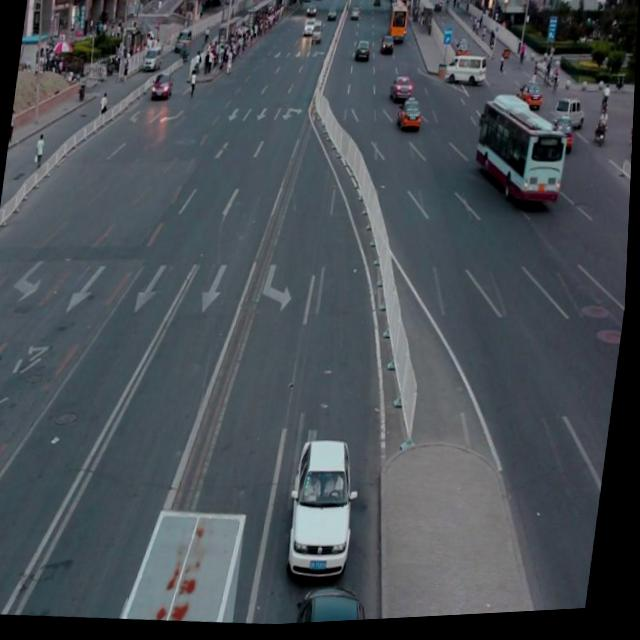bus: (120, 501, 252, 630)
car: (287, 435, 368, 582), (299, 581, 377, 627)
van: (471, 102, 570, 212)
